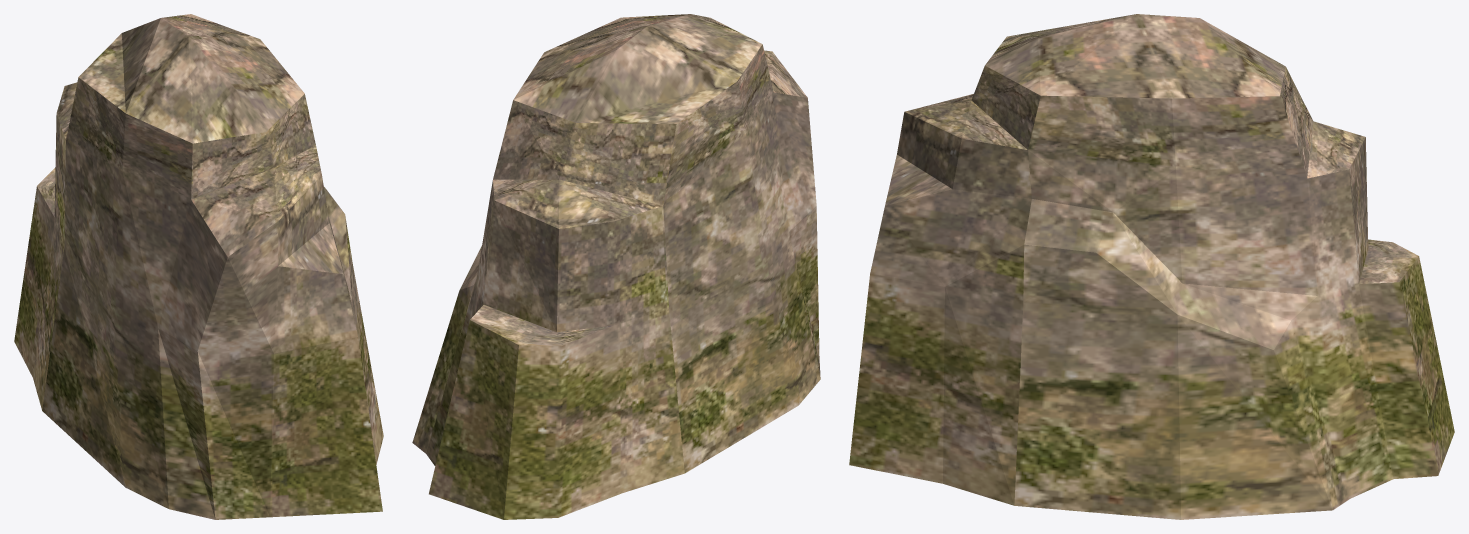
The model's file is town_mountain_a__11___1_15.fbx.
3 views of the same model, side by side, from view 1: azimuth 30°, elevation 25°; view 2: azimuth 150°, elevation 25°; view 3: azimuth 270°, elevation 25° (orthographic). The views are drawn at different scales.
Parts seen in each view (by area): view 1: town_mountain_a__11___1_15; view 2: town_mountain_a__11___1_15; view 3: town_mountain_a__11___1_15.
Boxes of the visible parts, left/top/right/bottom form: town_mountain_a__11___1_15: left=14, top=14, right=383, bottom=519; town_mountain_a__11___1_15: left=412, top=14, right=820, bottom=519; town_mountain_a__11___1_15: left=849, top=14, right=1454, bottom=519.
Bounding box in the file's own units: 16.38 × 22.4 × 29.3.
